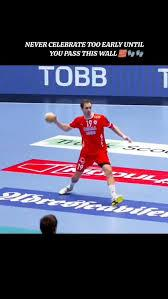ballon_handball: (44, 112, 58, 124)
